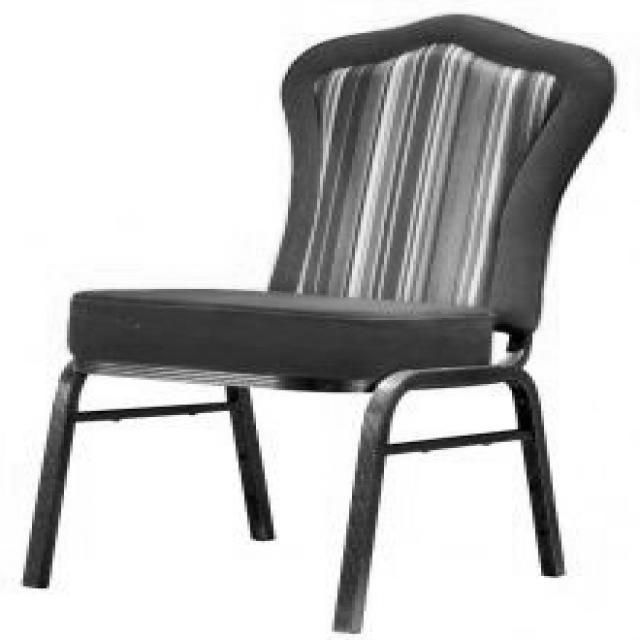chair: (30, 14, 620, 630)
